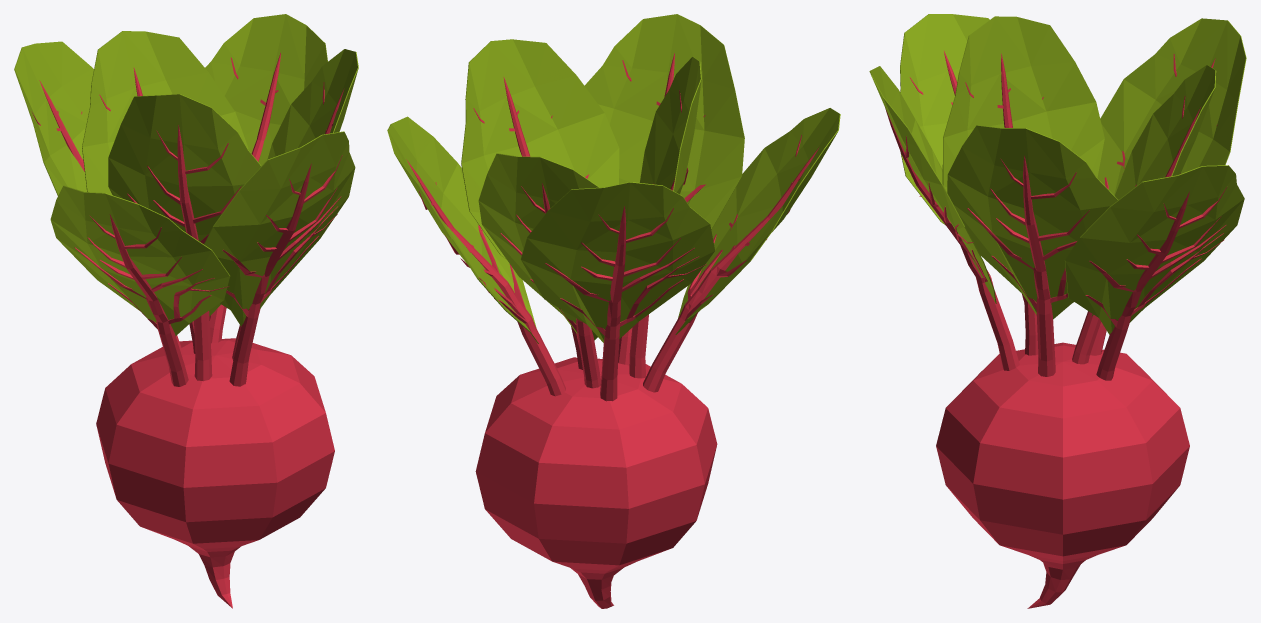
File: beet.glb
The picture shows the model from 3 angles, left to right: view 1: azimuth 30°, elevation 25°; view 2: azimuth 150°, elevation 25°; view 3: azimuth 270°, elevation 25°; orthographic projection. The views are drawn at different scales.
Visible parts, largest first — view 1: Object_5, Object_4; view 2: Object_5, Object_4; view 3: Object_5, Object_4.
Boxes of the visible parts, x1,y1,x2,y2 form: Object_5: [14, 14, 358, 335]; Object_4: [31, 52, 344, 608]; Object_5: [387, 14, 840, 343]; Object_4: [406, 53, 819, 608]; Object_5: [869, 14, 1246, 334]; Object_4: [885, 51, 1226, 608].
Bounding box in the file's own units: 2 × 3.07 × 1.88.
